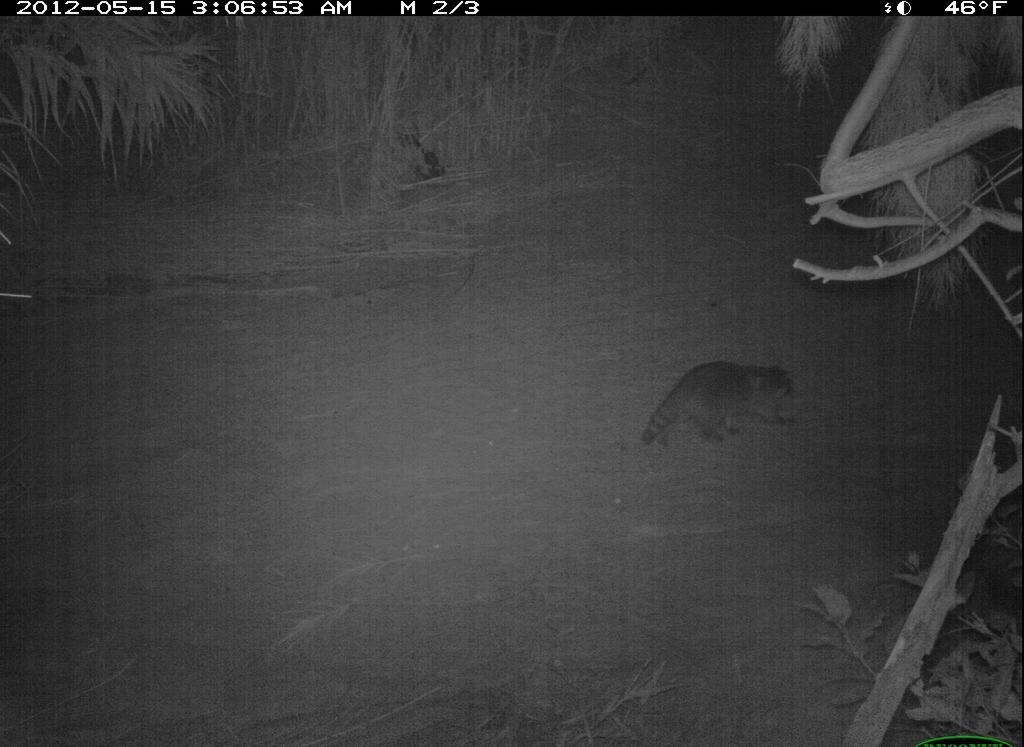raccoon: (632, 354, 815, 461)
